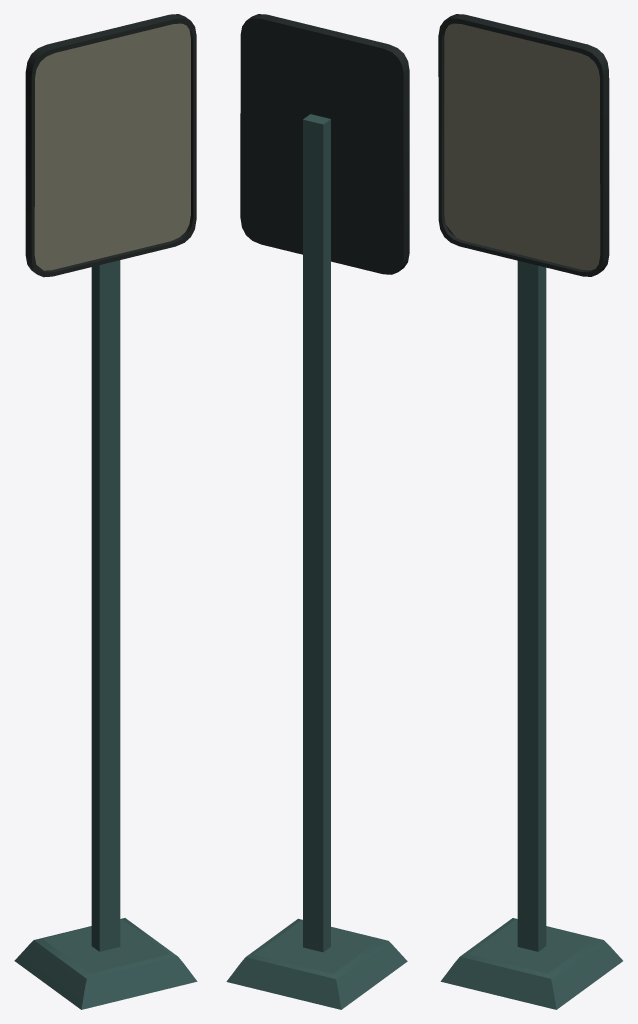
The model's file is Señalgasolinera_uv.fbx.
3 renders of one model, left to right at view 1: azimuth 30°, elevation 25°; view 2: azimuth 150°, elevation 25°; view 3: azimuth 330°, elevation 25°, orthographic.
Parts seen in each view (by area): view 1: Box065, Box064; view 2: Box065, Box064; view 3: Box065, Box064.
Part boxes in pixels (box(x1,y1,x2,y2)): Box065: box(25, 14, 196, 277); Box064: box(14, 260, 197, 1009); Box065: box(240, 14, 409, 274); Box064: box(226, 114, 407, 1009); Box065: box(438, 14, 609, 276); Box064: box(440, 261, 622, 1009).
Bounding box in the file's own units: 3.32 × 18.18 × 2.34.
